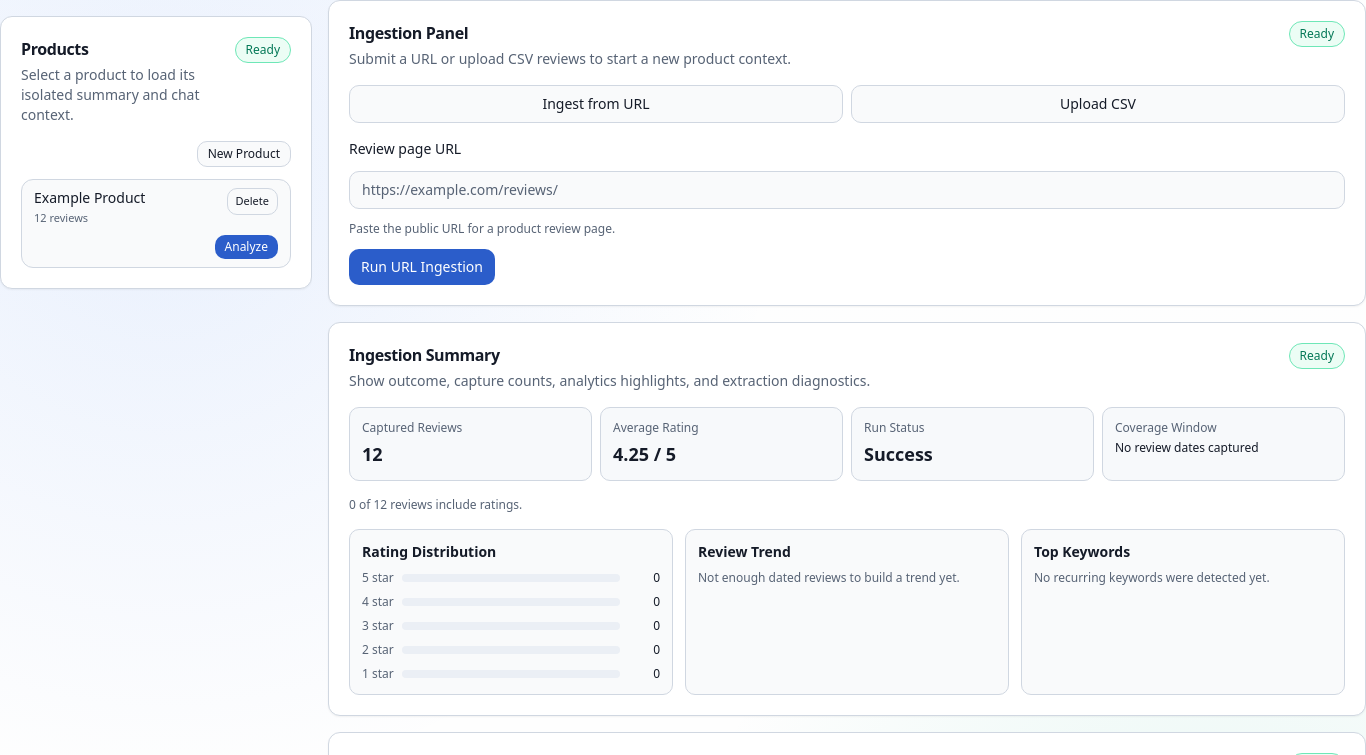
Scenario: CoreAnalystWorkspace › optimistically removes a product and rolls back when delete fails
Check: the text "Example Product" is shown, box [34,188,145,208]
Click the button with aria-label "delete product example product": point(252, 201) [226,188,278,214]
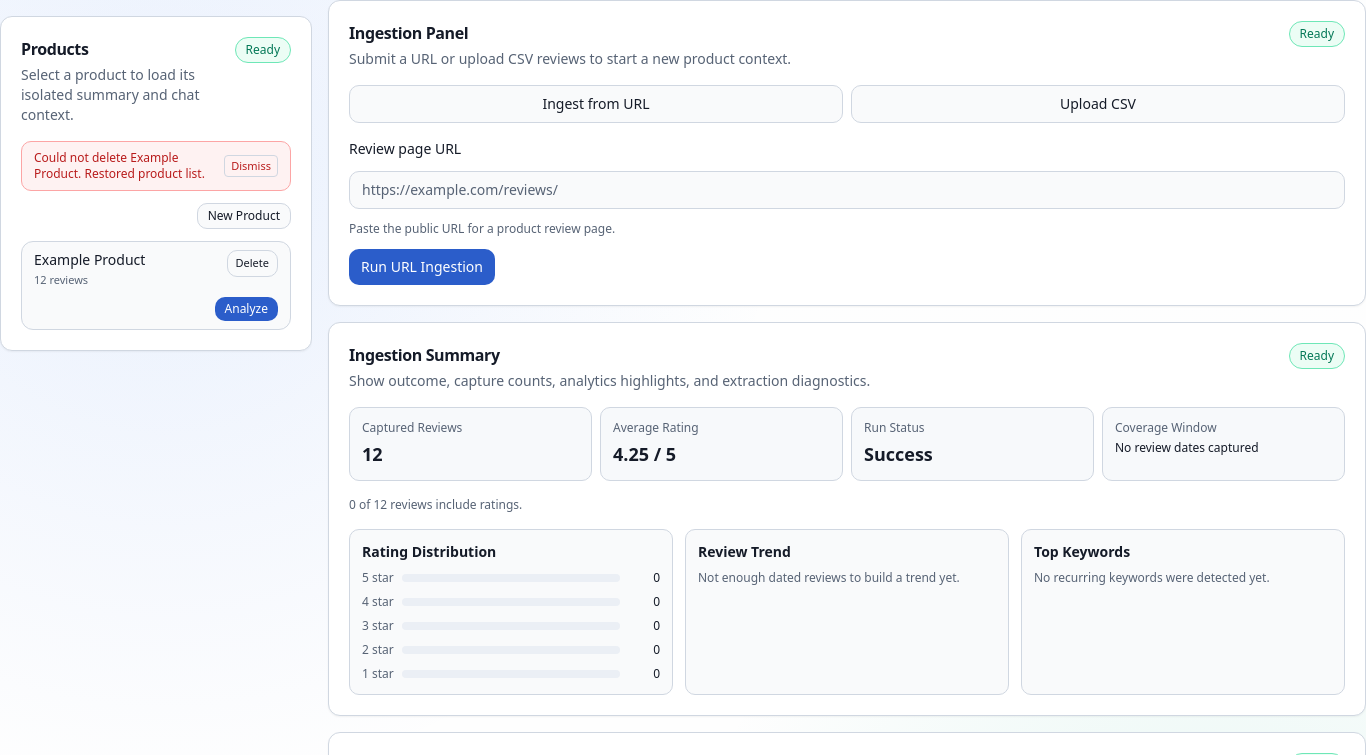
Check: the text "Example Product" is shown, box [34,250,145,270]
Check: the text "Could not delete Example Product. Restored product list." is shown, box [34,150,216,182]
Click the button "Dismiss": point(251, 166) [224,155,278,177]
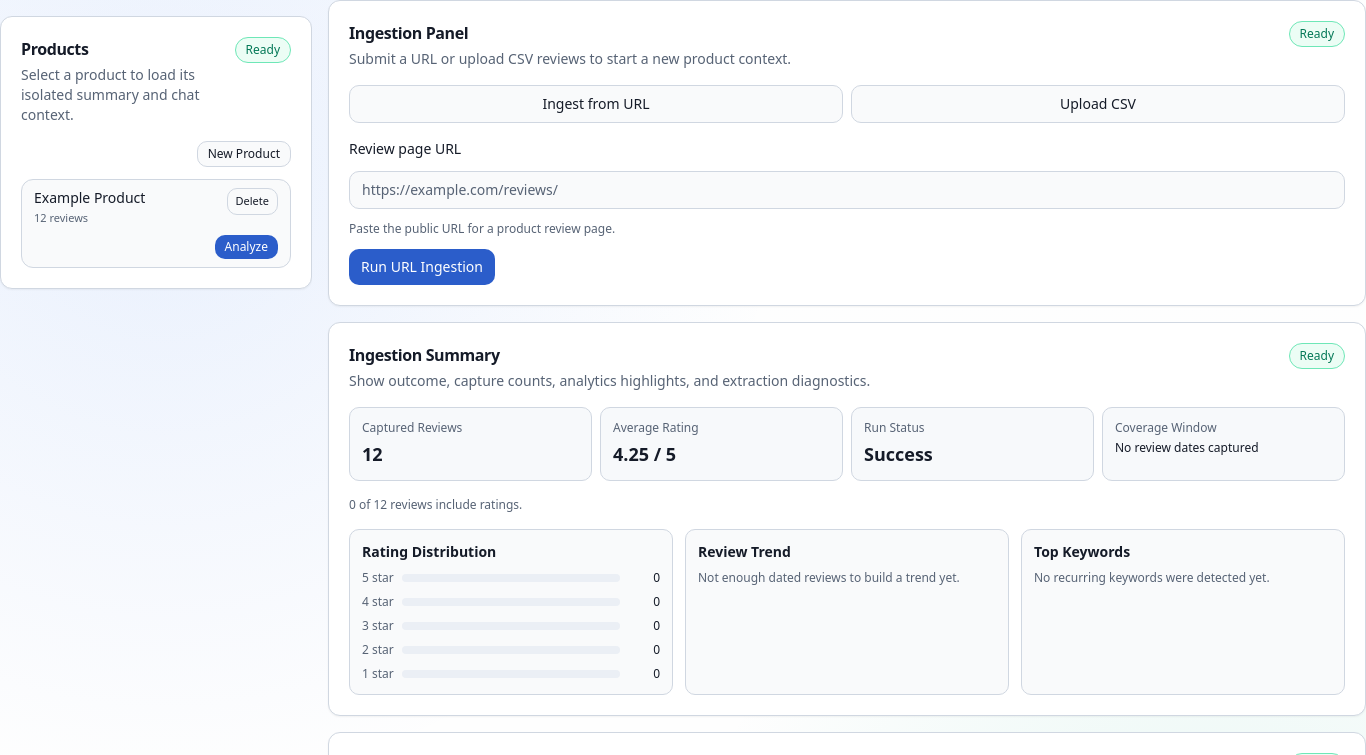
Check: the text "Could not delete Example Product. Restored product list." is gone
